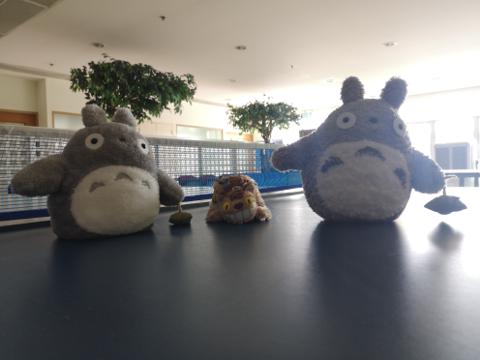nekobus: (204, 170, 272, 231)
totoro: (272, 73, 468, 233), (6, 101, 194, 245)
